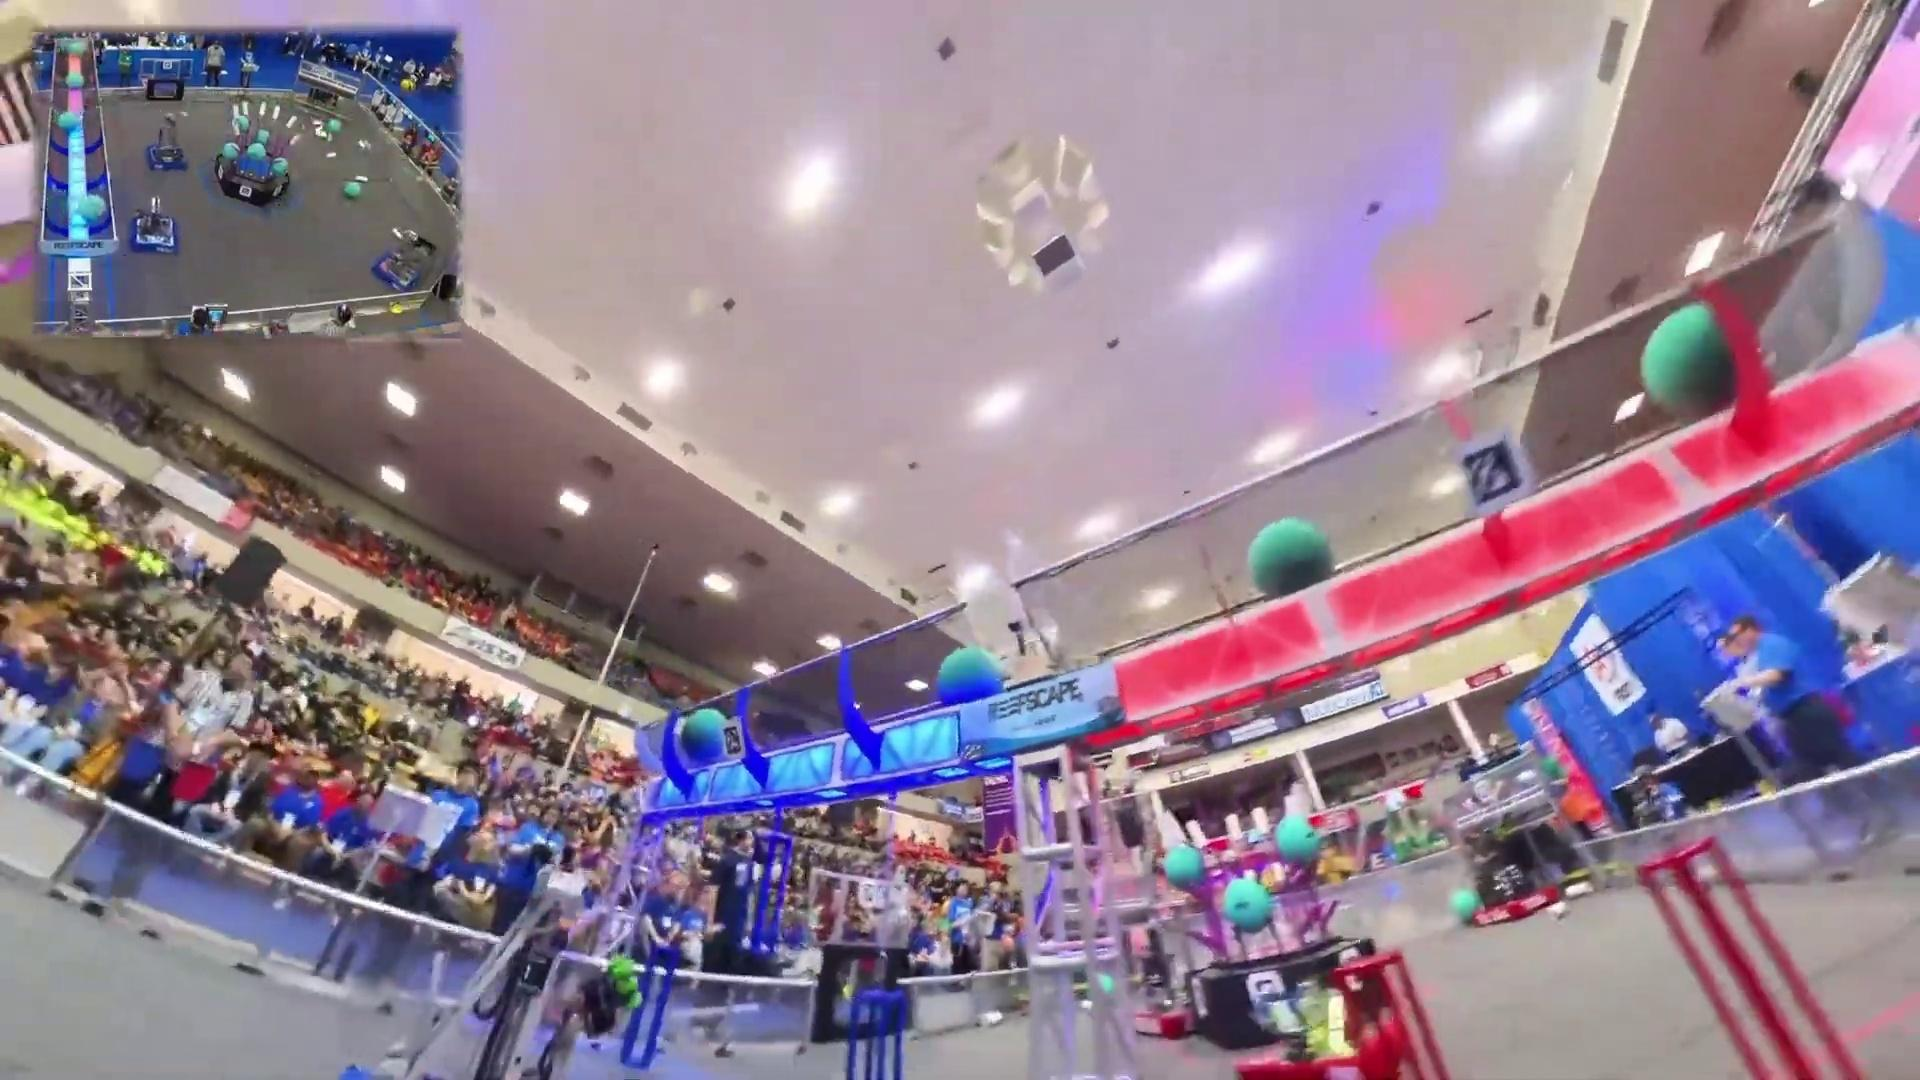robot: (1234, 981, 1394, 1080), (1460, 822, 1563, 927), (1134, 930, 1203, 1039), (371, 233, 433, 290), (127, 195, 178, 256), (148, 112, 190, 173)
